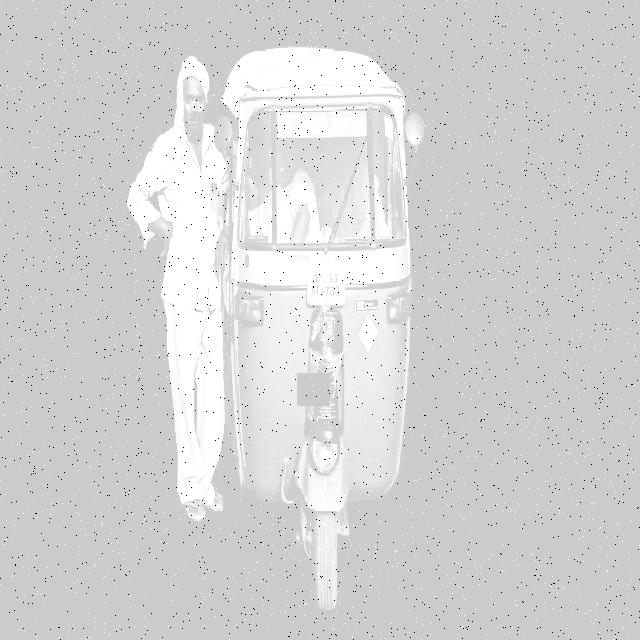Auto-Rickshaw: (206, 51, 436, 640)
